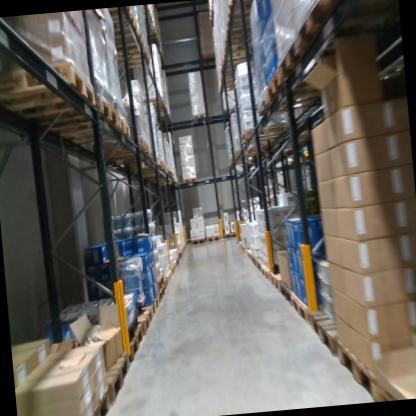pallet: (0, 50, 107, 125), (267, 23, 383, 77), (255, 75, 353, 134), (36, 87, 128, 149), (263, 61, 368, 113), (282, 0, 395, 47), (292, 292, 361, 361), (52, 113, 140, 148), (337, 342, 385, 403), (83, 135, 152, 158), (103, 349, 132, 401), (236, 116, 287, 144), (117, 322, 146, 366), (77, 386, 115, 416), (82, 152, 156, 167), (116, 156, 164, 174), (132, 305, 155, 337), (120, 310, 142, 341), (280, 283, 298, 310), (188, 110, 209, 129), (151, 270, 164, 293), (272, 276, 283, 300), (159, 276, 170, 296), (151, 296, 162, 315), (222, 229, 241, 240), (190, 235, 206, 247), (261, 264, 272, 281), (163, 270, 173, 288), (206, 232, 222, 243), (183, 177, 199, 188), (158, 286, 166, 304), (169, 265, 175, 279), (257, 257, 262, 270)
